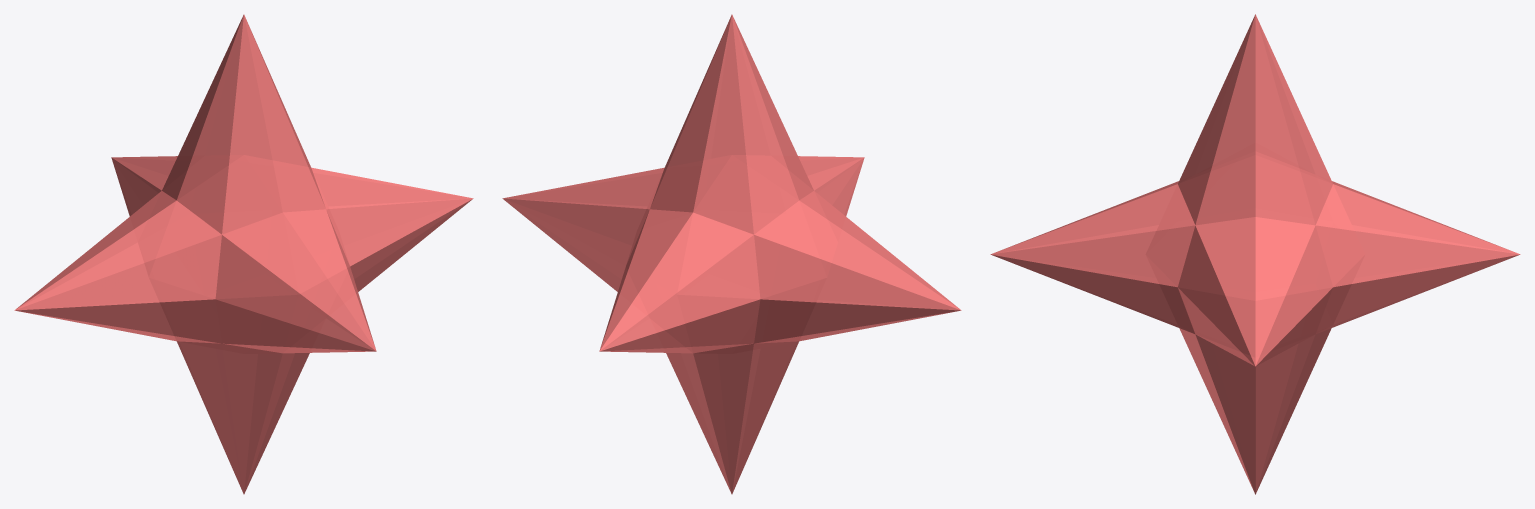
The model's file is SmallHexacronicIcositetrahedron.obj.
3 views of the same model, side by side, from view 1: azimuth 30°, elevation 25°; view 2: azimuth 150°, elevation 25°; view 3: azimuth 270°, elevation 25° (orthographic).
Size of the model in its own units: 6.83 by 6.83 by 6.83.
